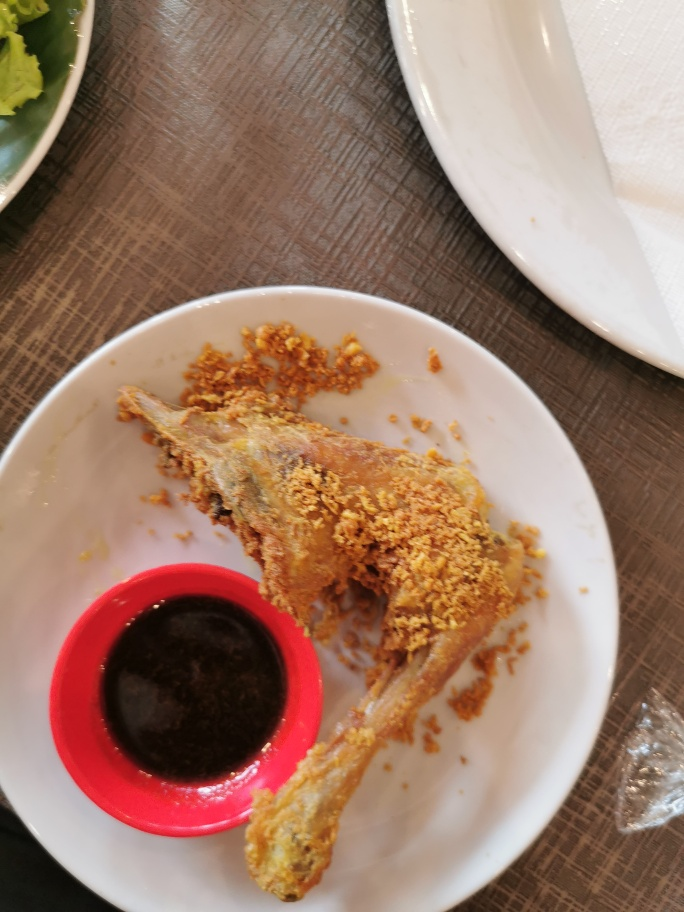ayam goreng: (119, 380, 526, 899)
kecap: (46, 560, 324, 839)
